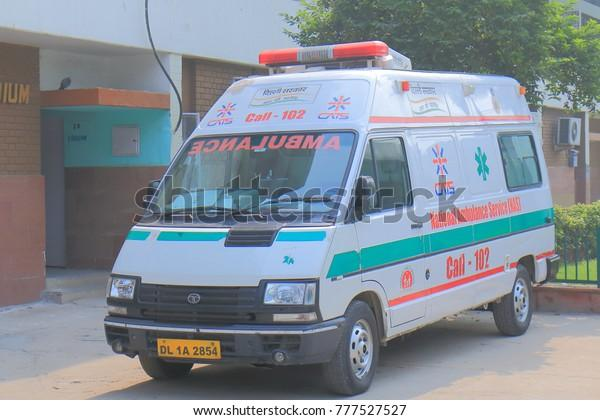ER: (104, 40, 562, 382)
